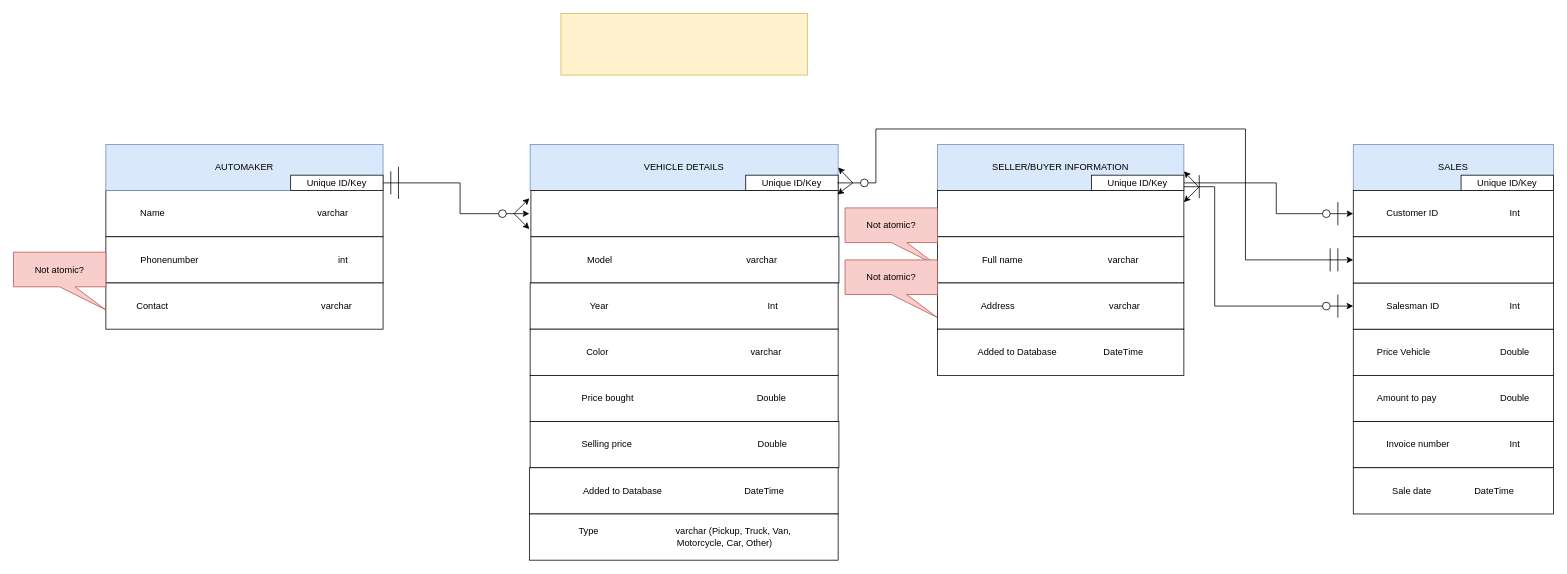
Some shapes in this 1567 by 574 pixel diagram are drawn without their labels. Here are the shapes that lost their labels. From the top down, the centre of each, then its label:
At point 683,44: "One Piece Auto Database".
At point 684,213: "Automaker ID Int".
At point 1060,213: "Sales type varchar (CUSTOMER/ SALESMAN)".
At point 1453,259: "Car ID Int".
